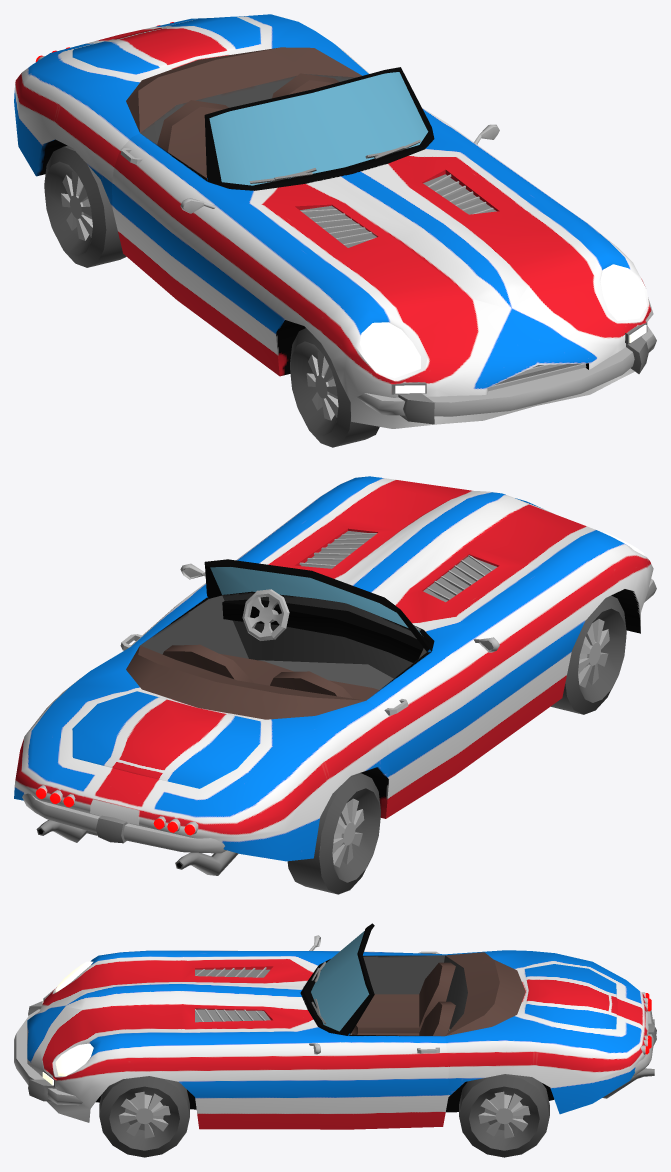
The model's file is MalibuwithTyres.fbx.
3 views of the same model, one above another, from view 1: azimuth 30°, elevation 25°; view 2: azimuth 150°, elevation 25°; view 3: azimuth 270°, elevation 25° (orthographic). The views are drawn at different scales.
Parts seen in each view (by area): view 1: Malibu, MalibuWheel-BR, MalibuWheel-FR; view 2: Malibu, MalibuWheel-BR, MalibuWheel-FR, handlebar; view 3: Malibu, MalibuWheel-BL, MalibuWheel-FL.
Boxes of the visible parts, x1,y1,x2,y2 form: Malibu: (14,14,656,428); MalibuWheel-BR: (44,145,126,267); MalibuWheel-FR: (290,328,379,447); Malibu: (14,476,656,875); MalibuWheel-BR: (287,773,380,894); MalibuWheel-FR: (551,595,626,714); handlebar: (242,589,289,640); Malibu: (14,923,656,1129); MalibuWheel-BL: (459,1074,549,1157); MalibuWheel-FL: (99,1076,189,1157).
Size of the model in its own units: 186 by 119 by 445.
